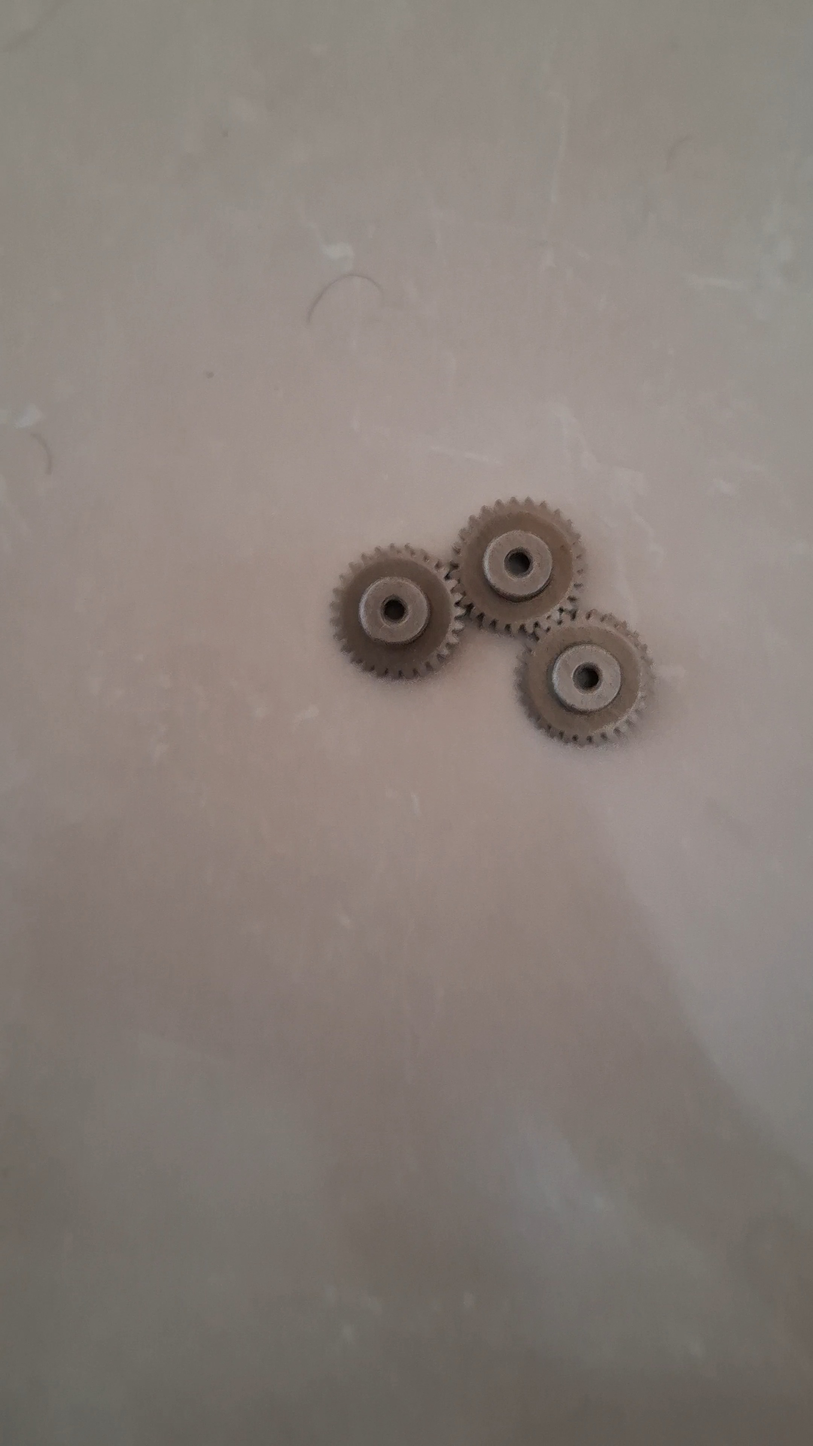spur gear: (514, 661, 655, 804), (318, 593, 459, 734), (446, 545, 586, 686)
